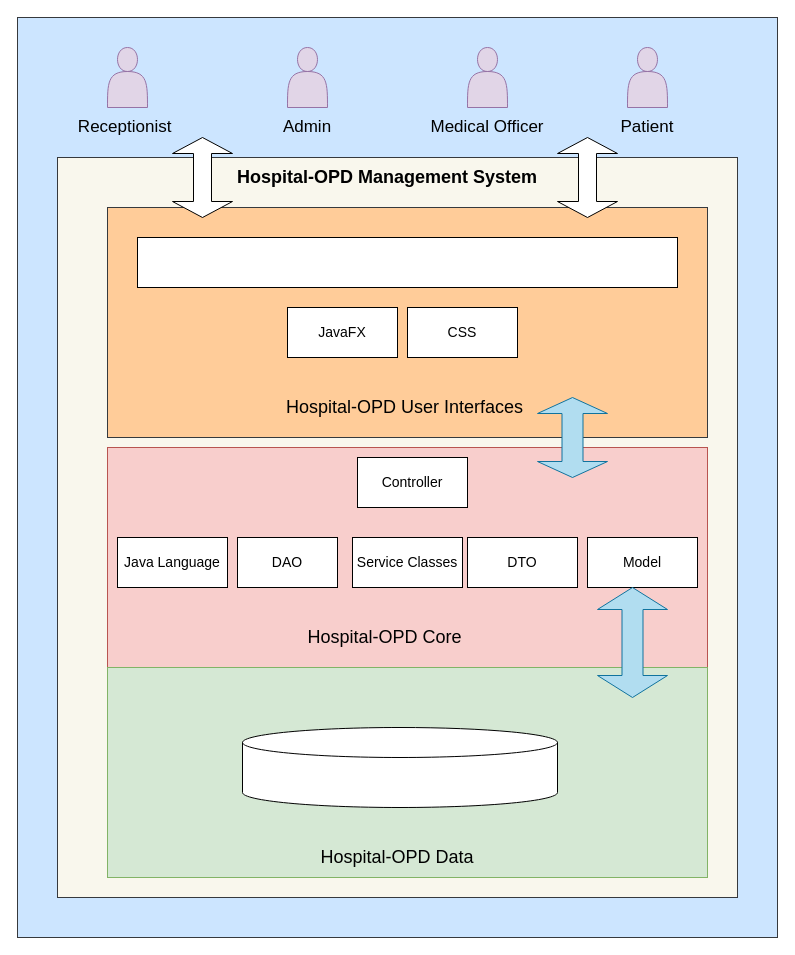
The diagram is 795 pixels wide and 955 high, and some of its shapes have lost their labels. The centre of each missing label's shape, as x and y in pixels:
"File Handling" goes at (x=400, y=767).
"View" goes at (x=407, y=262).
